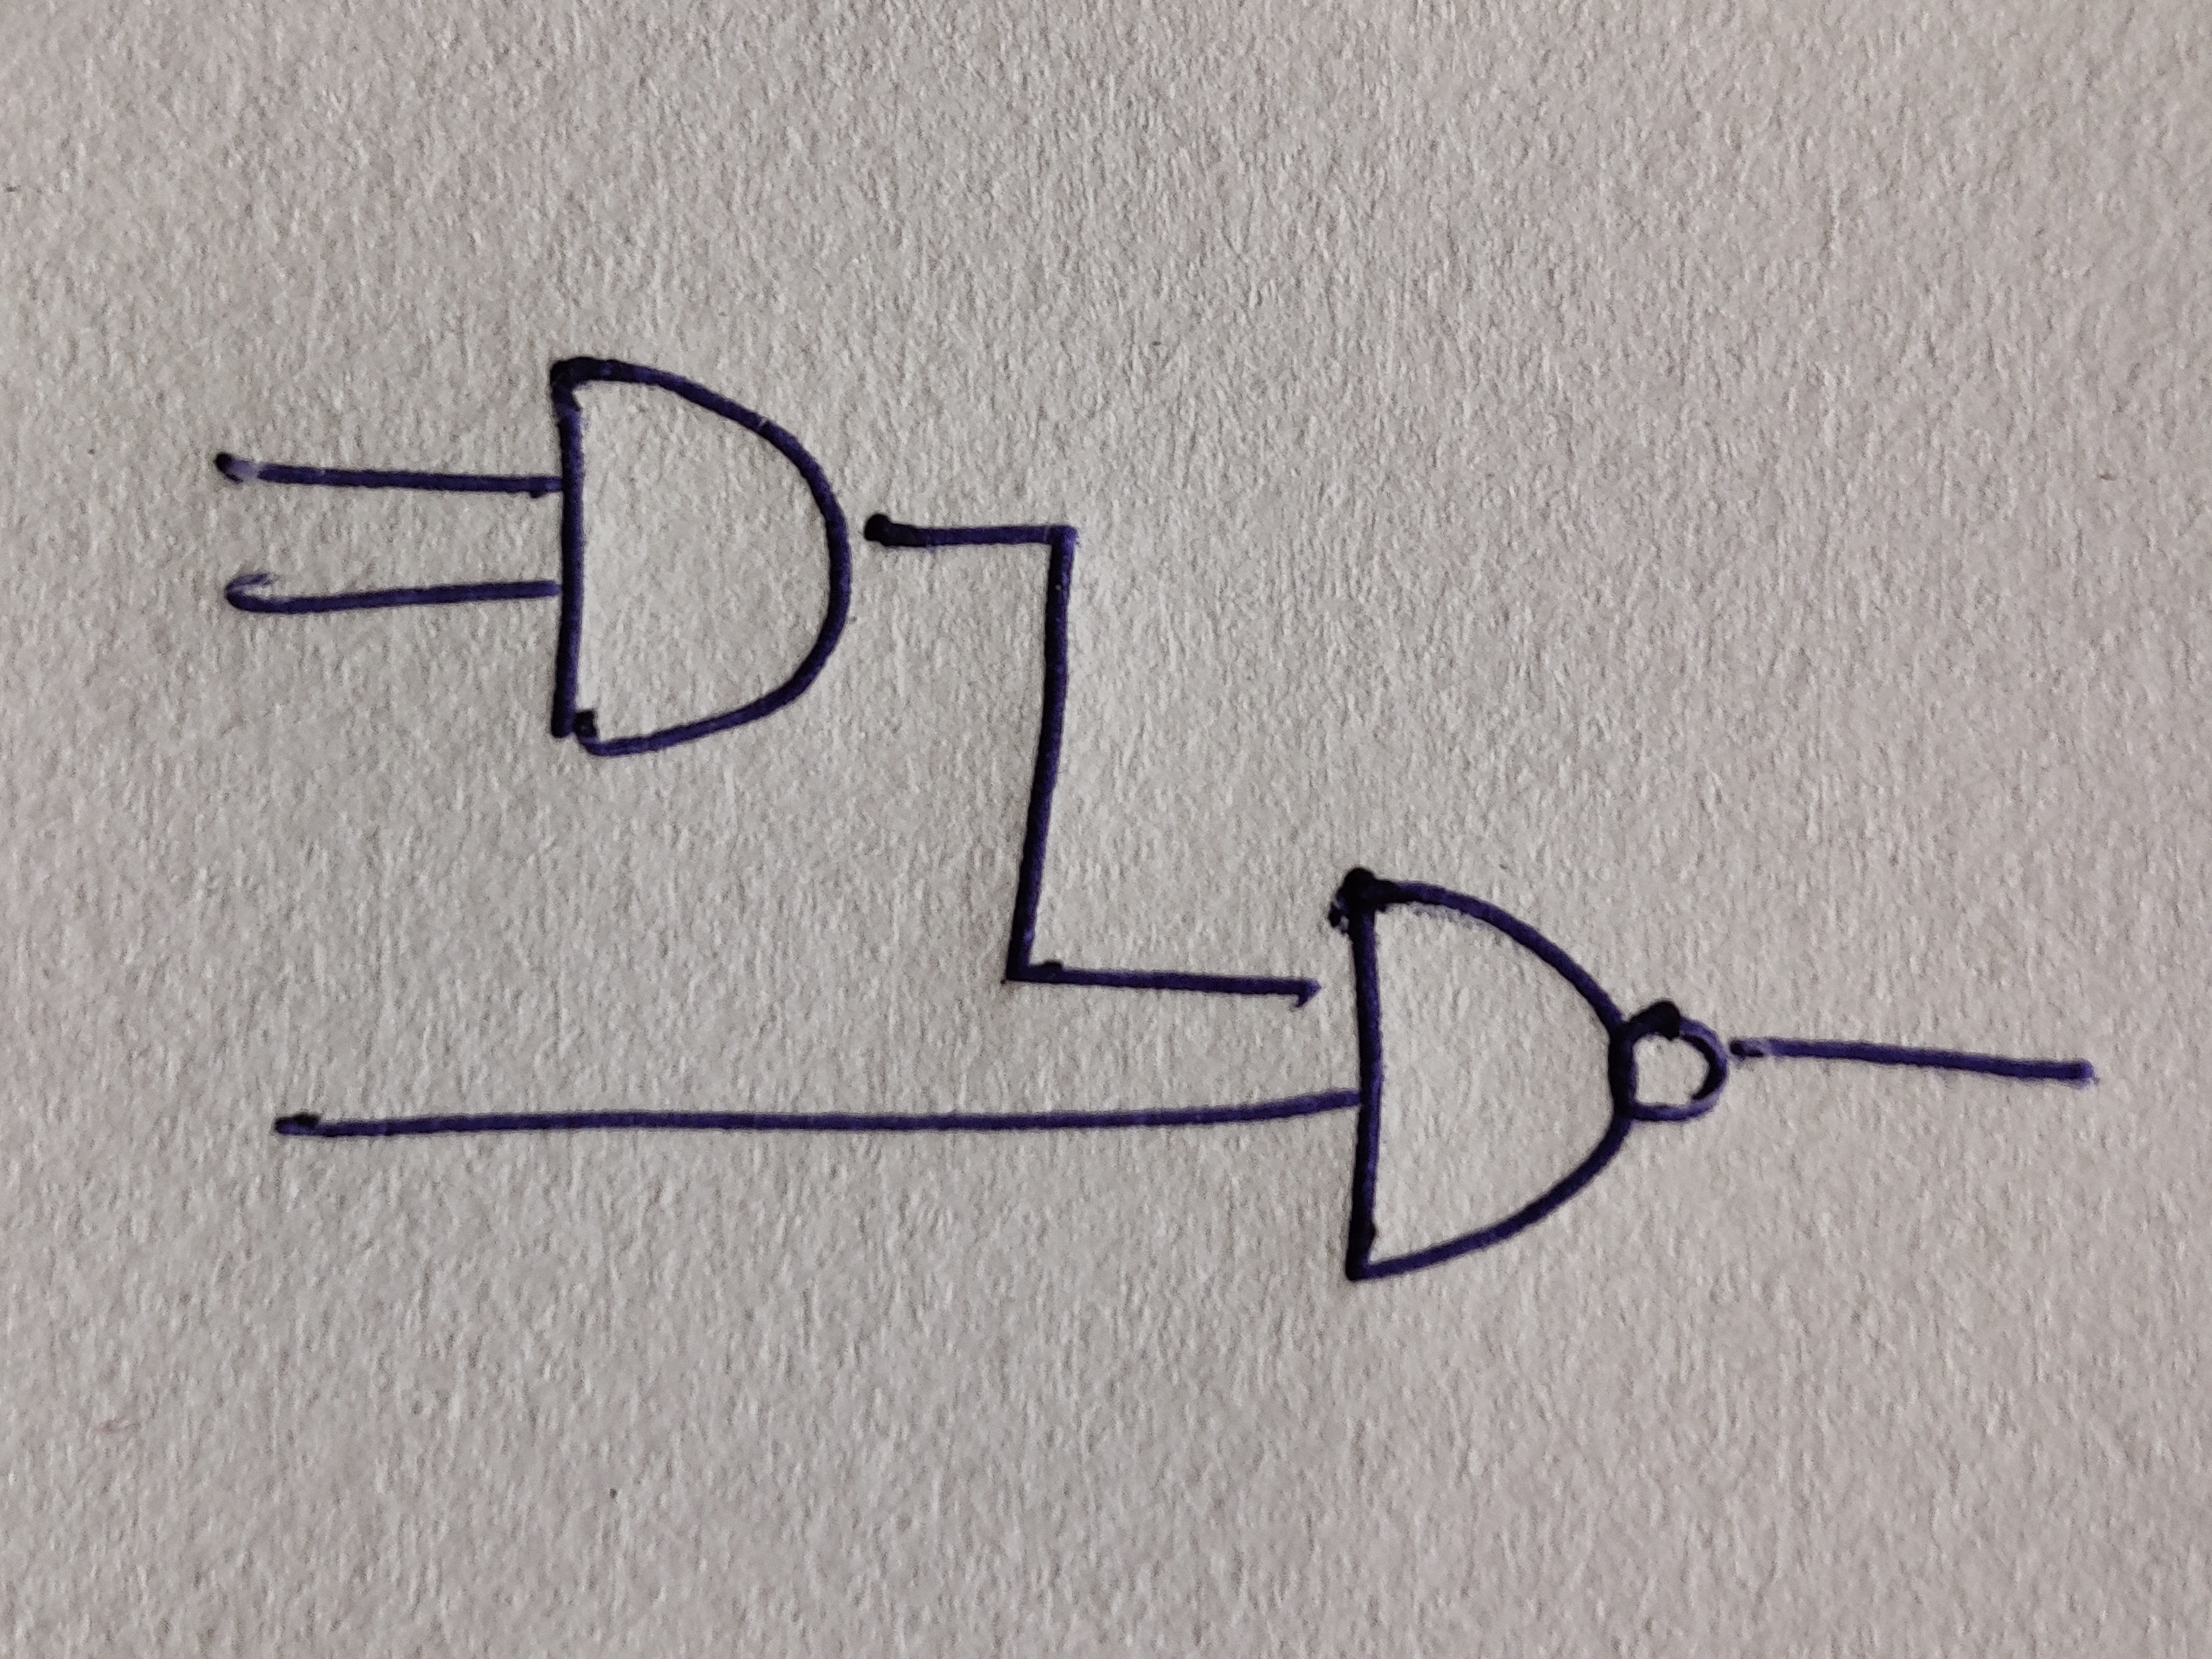and: (1329, 868, 1632, 1286), (550, 357, 852, 756)
not: (1611, 1002, 1730, 1126)
